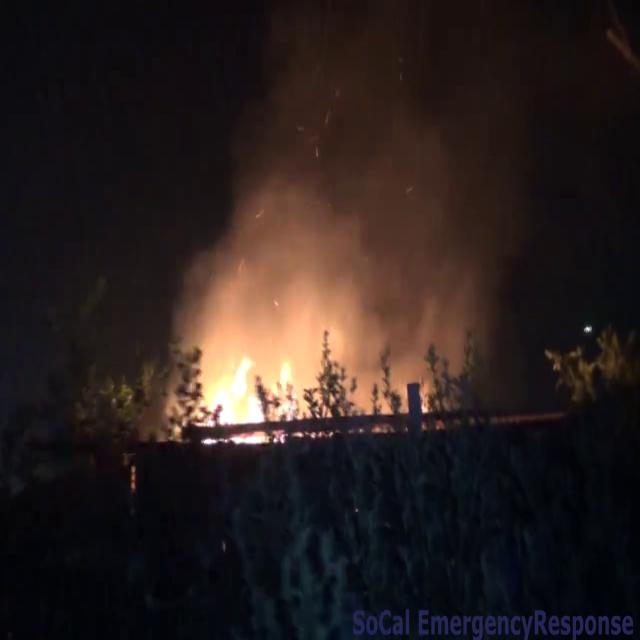Fire: (184, 337, 308, 438)
Smoke: (178, 1, 534, 366)
